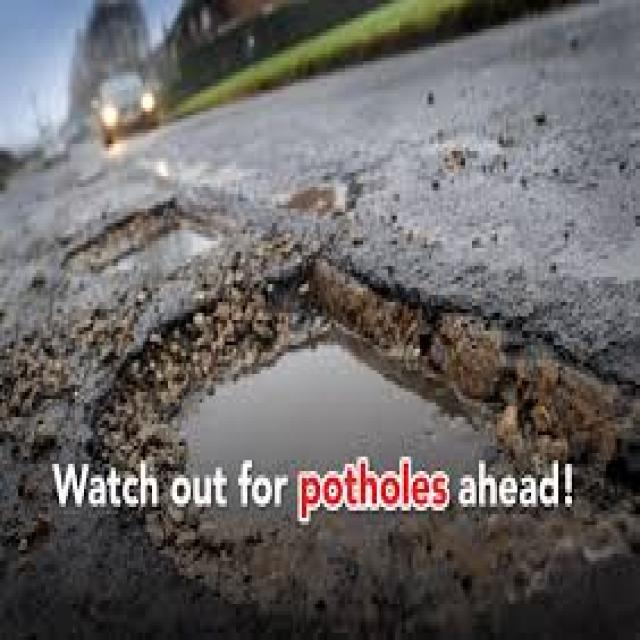Pothole: (95, 259, 620, 640)
